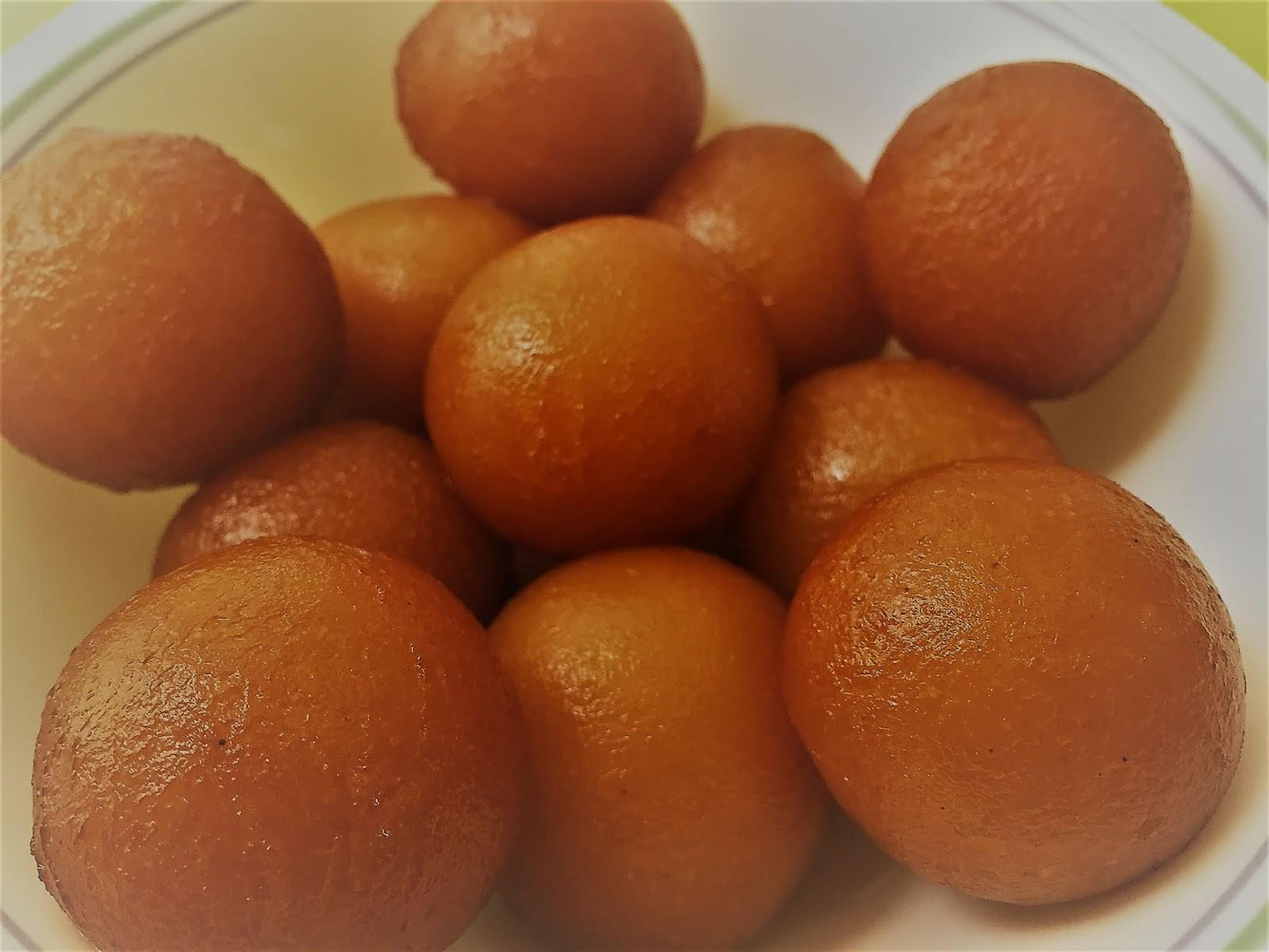GulabJamun: (784, 464, 1251, 904), (38, 534, 521, 949), (483, 542, 833, 947), (0, 130, 350, 492), (419, 214, 786, 547), (850, 58, 1195, 407), (147, 417, 494, 613), (744, 360, 1068, 563), (391, 0, 709, 193), (657, 122, 873, 362), (315, 185, 529, 410)
